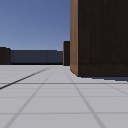obstacle: (70, 1, 128, 77), (1, 47, 11, 65), (63, 41, 70, 66)
